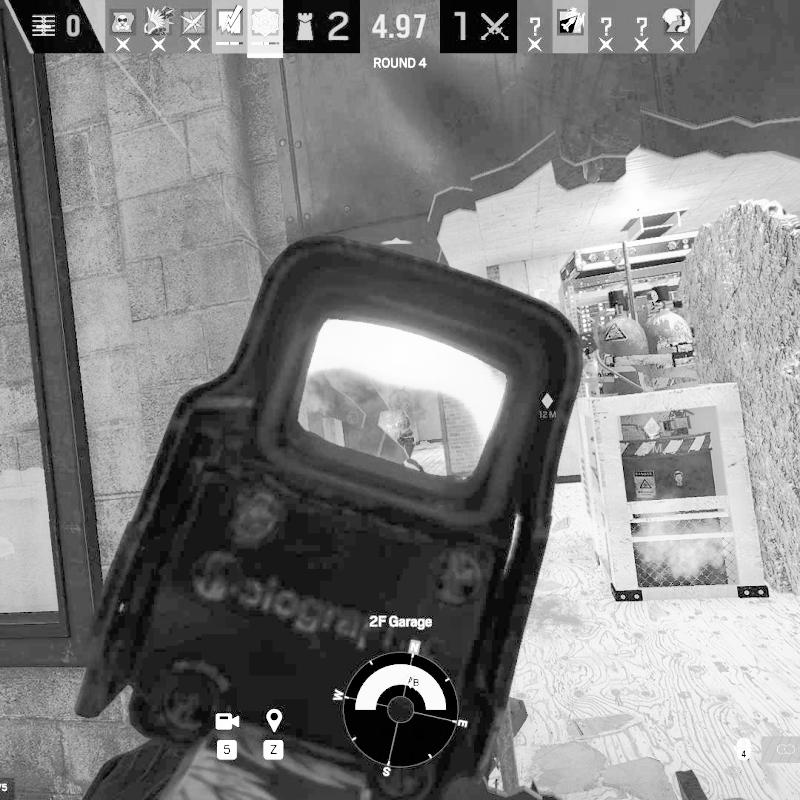Character: (383, 406, 427, 473)
